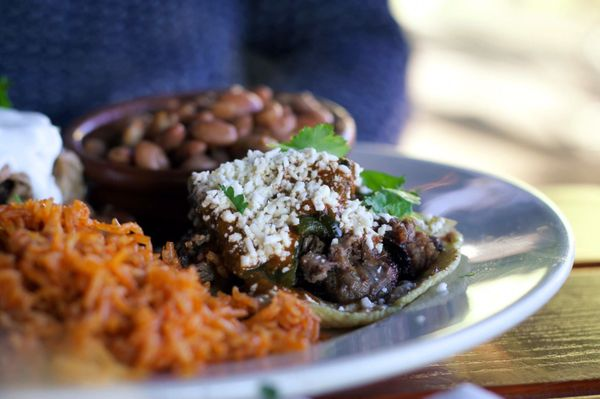curry: (11, 4, 596, 393)
